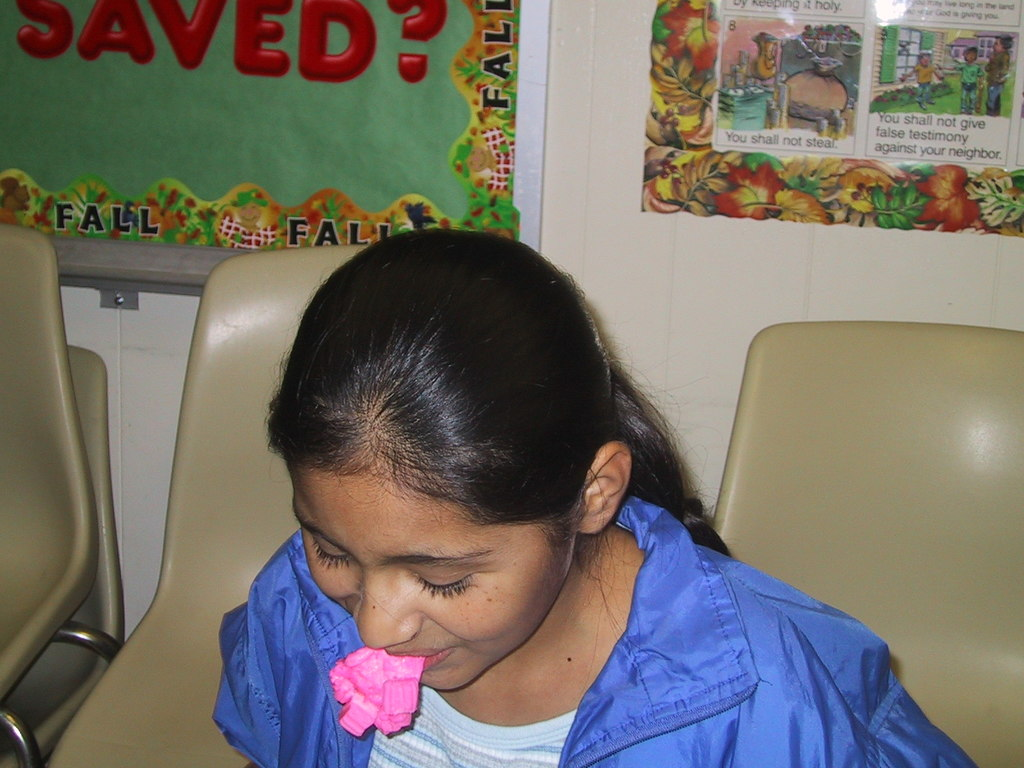Human-face: (290, 471, 575, 692)
